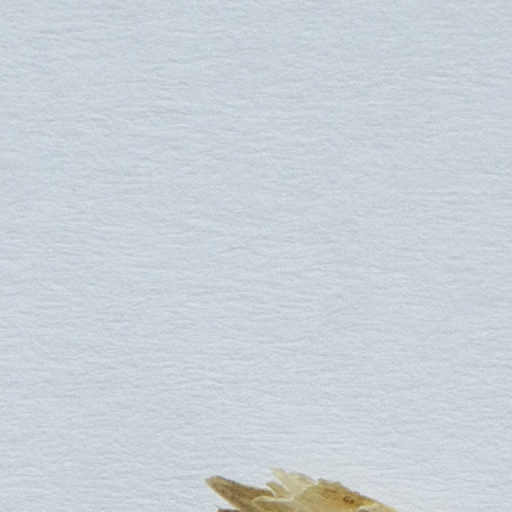Peel-poly: (205, 470, 406, 511)
